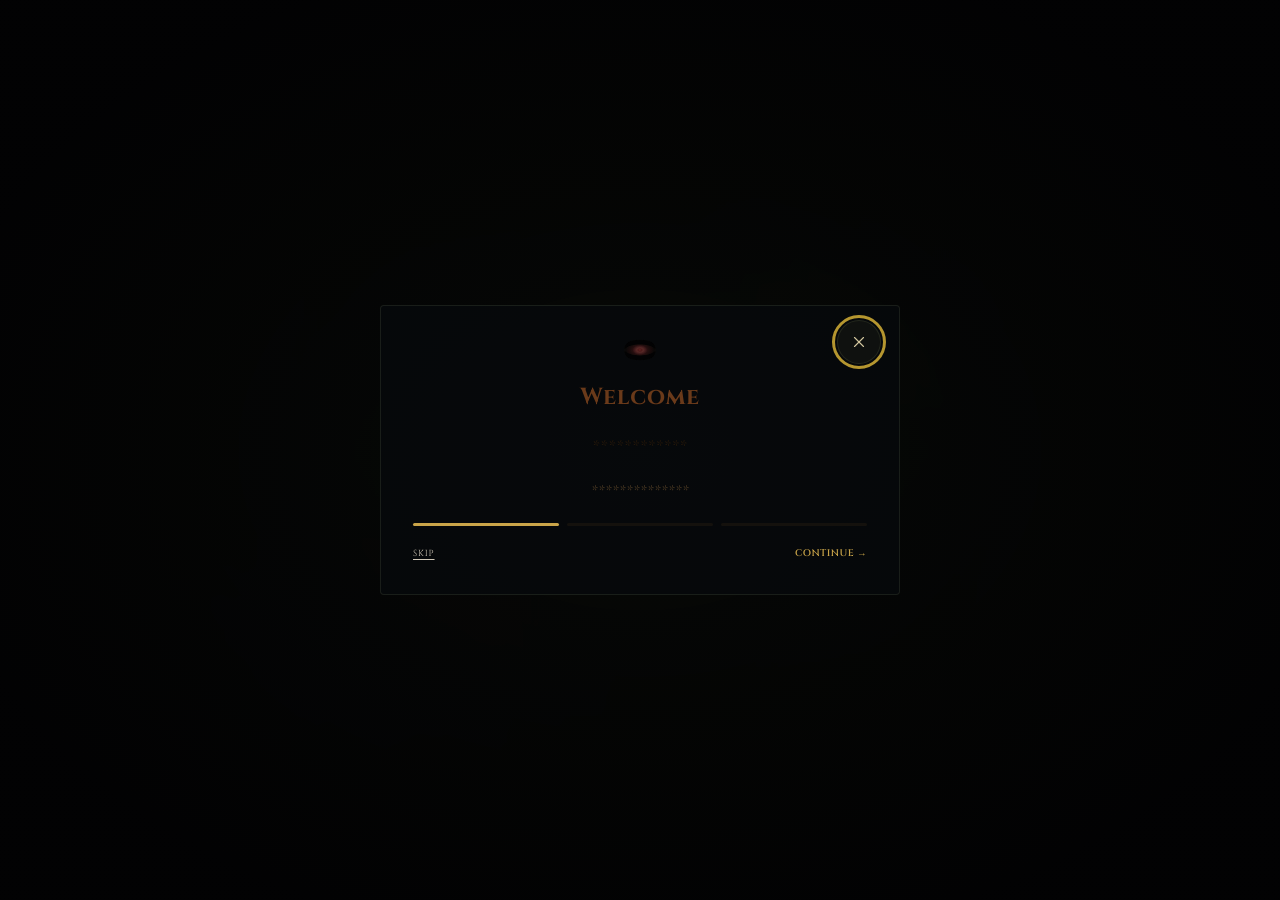
Test: ApprenticeWelcome › advances to the next panel when Continue is clicked
expect the text "Back" is not shown: met
Click the button "Continue →" at (831, 554), box [795,546,867,562]
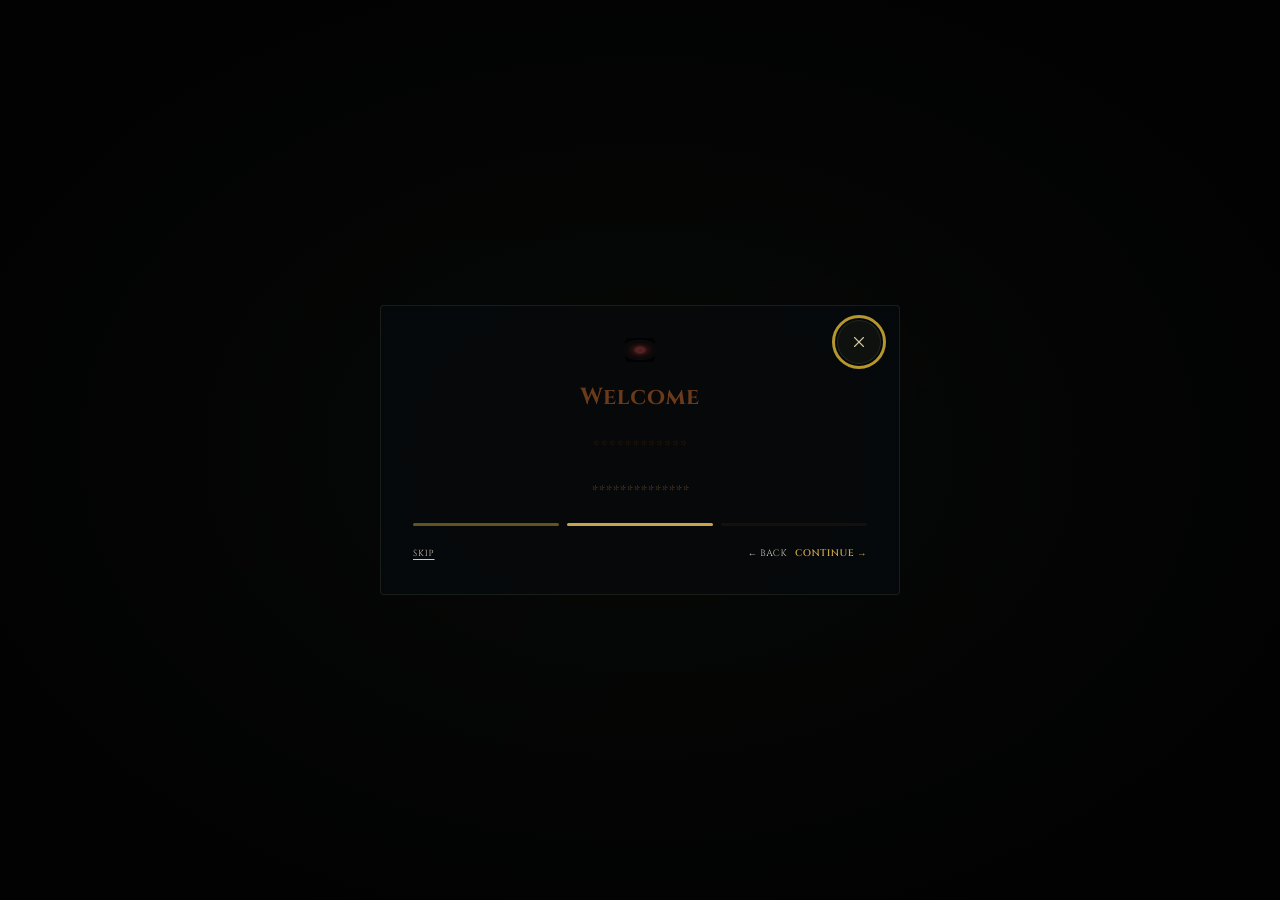
expect the button "← Back" is shown: met, box [748,546,787,561]
